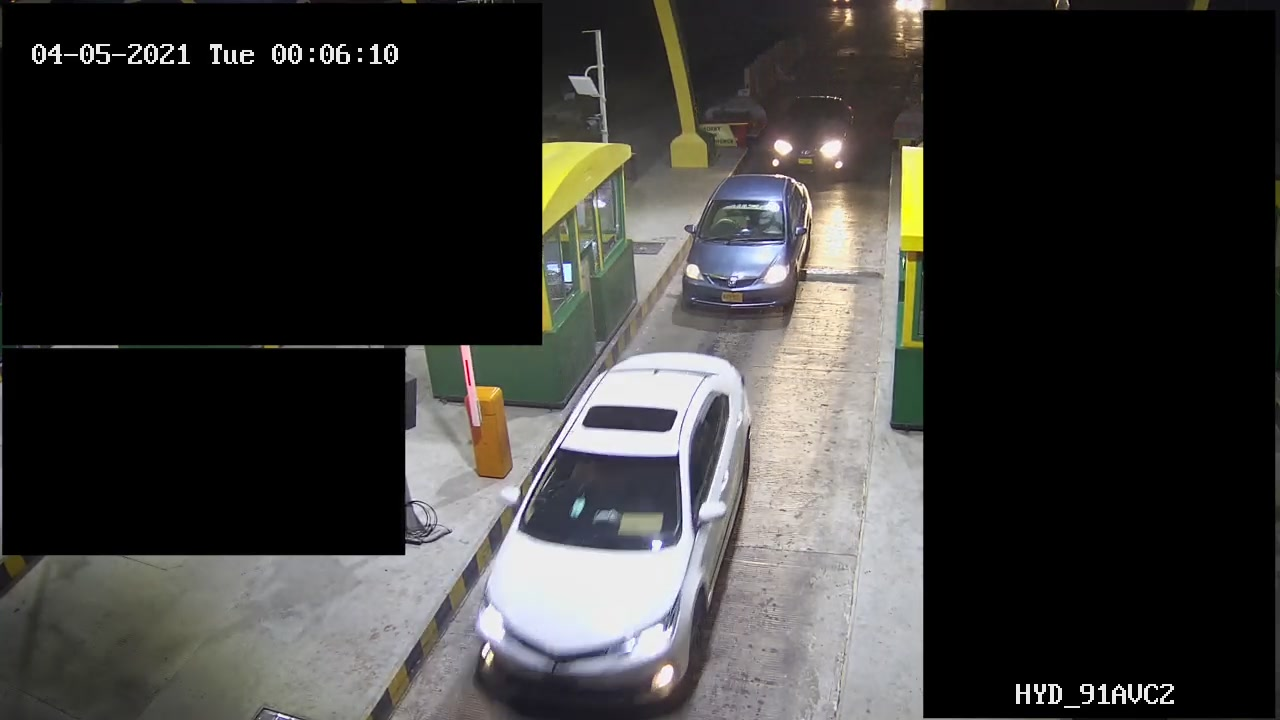F1: (463, 346, 777, 692), (681, 170, 819, 322)
